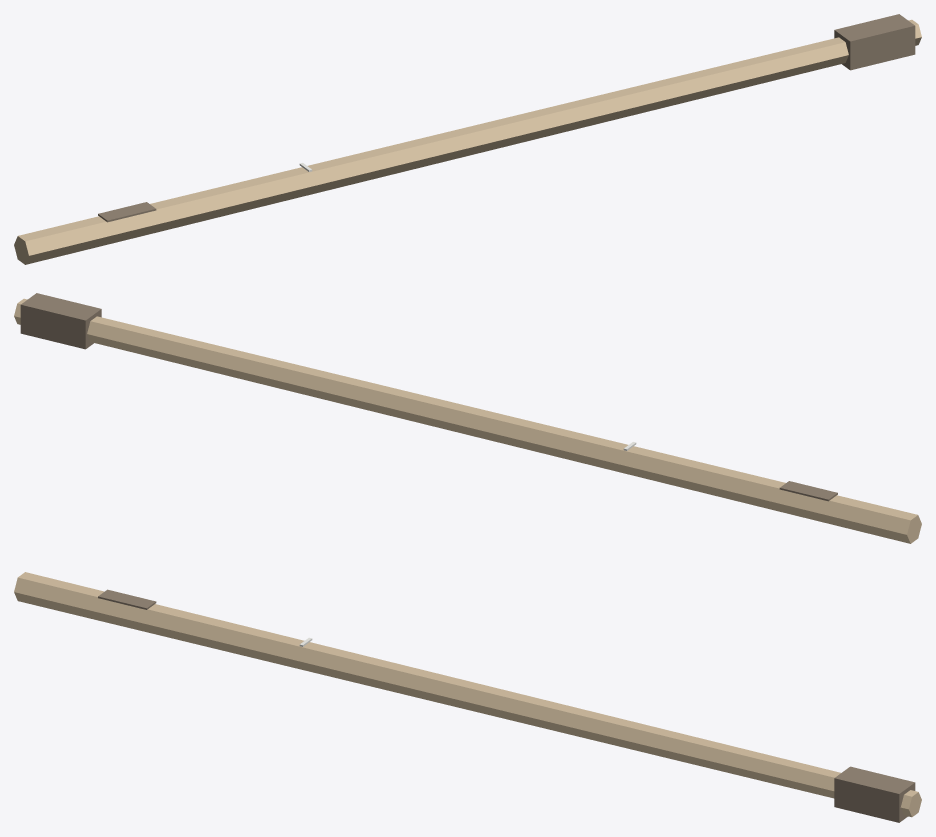
Rendered from prop-broom-handle-blank.fbx.
The picture shows the model from 3 angles, top to bottom: view 1: azimuth 30°, elevation 25°; view 2: azimuth 150°, elevation 25°; view 3: azimuth 330°, elevation 25°; orthographic projection.
Visible parts, largest first — view 1: prop-broom-handle-blank; view 2: prop-broom-handle-blank; view 3: prop-broom-handle-blank.
Boxes of the visible parts, x1,y1,x2,y2 form: prop-broom-handle-blank: [14, 14, 921, 264]; prop-broom-handle-blank: [14, 293, 921, 543]; prop-broom-handle-blank: [14, 572, 921, 822].
Size of the model in its own units: 110 by 3.4 by 3.4.
